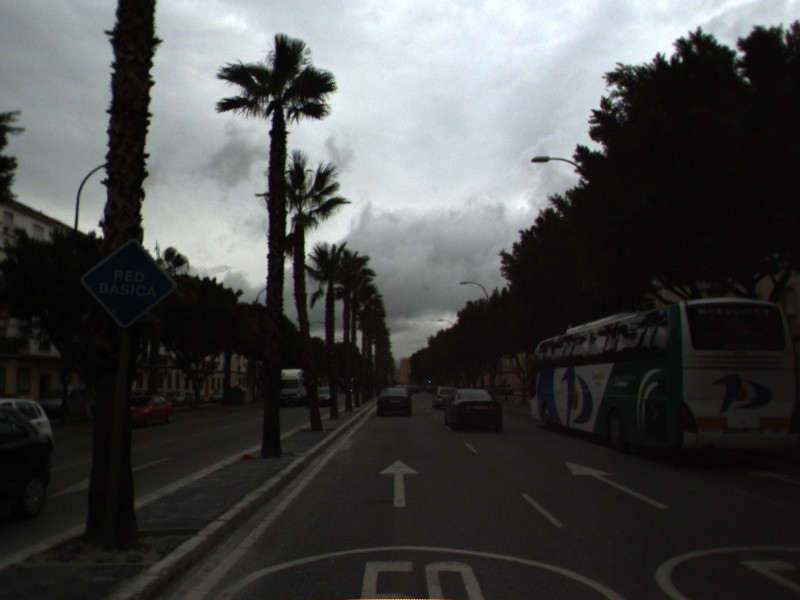STRAIGHT: (563, 458, 672, 511), (377, 457, 422, 509)
